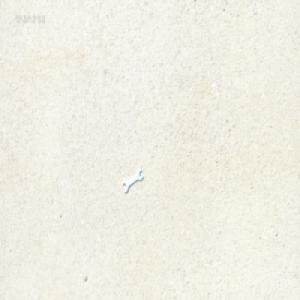Wrench: (122, 168, 143, 194)
